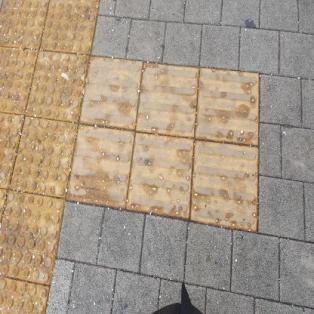Podoctatil: (0, 0, 263, 313)
